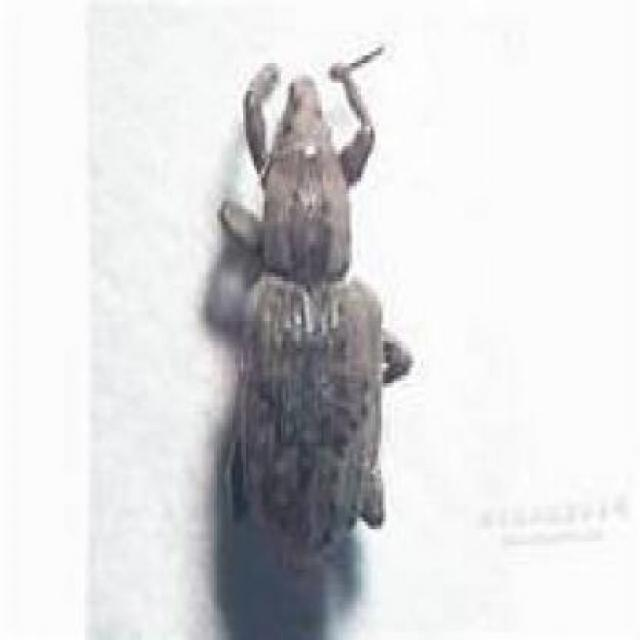rice-bug: (209, 49, 409, 551)
